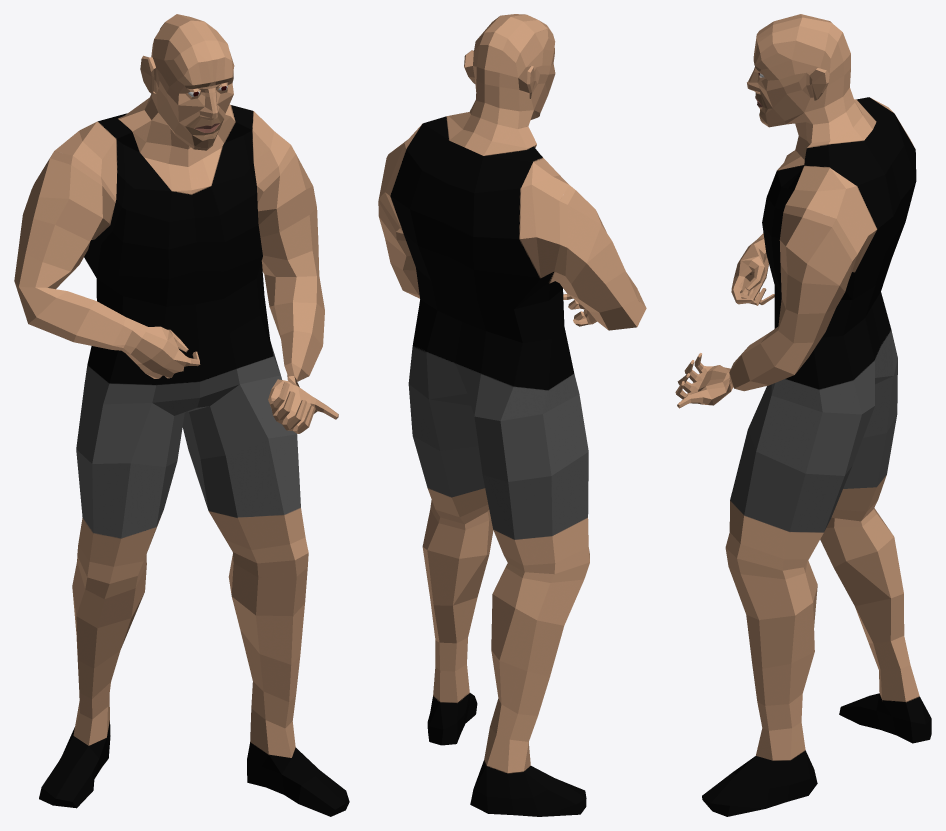
The model's file is PlayerIdle(57).obj.
3 views of the same model, side by side, from view 1: azimuth 30°, elevation 25°; view 2: azimuth 150°, elevation 25°; view 3: azimuth 270°, elevation 25° (orthographic). The views are drawn at different scales.
Parts seen in each view (by area): view 1: Plane002; view 2: Plane002; view 3: Plane002.
Part boxes in pixels (x1,y1,x2,y2): Plane002: [14, 14, 349, 816]; Plane002: [378, 14, 646, 816]; Plane002: [675, 14, 931, 816].
Size of the model in its own units: 671 by 1801 by 562.
